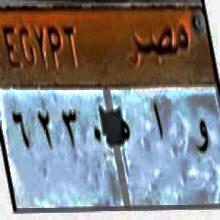0: (91, 120, 102, 153)
2: (36, 108, 54, 159)
3: (60, 101, 78, 156)
6: (9, 105, 30, 160)
alif: (150, 94, 168, 156)
haa: (118, 115, 133, 151)
waw: (194, 113, 210, 164)
